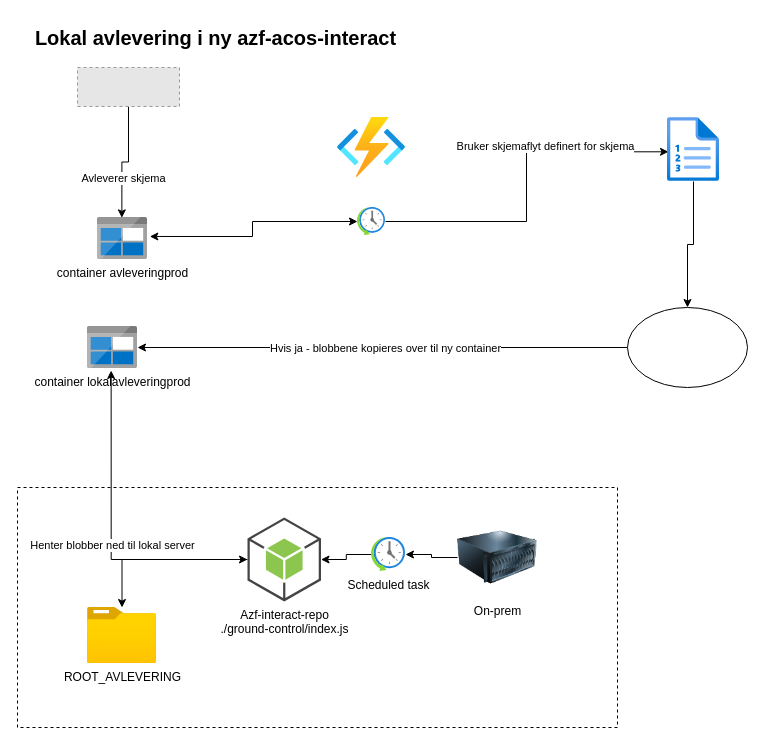
Some shapes in this 765 by 745 pixel diagram are drawn without their labels. Grey dashed boxes stand in for pictures. Here are the shapes that lost their labels. From the top down, the box of each, then its label:
(337, 117, 405, 177): AZF-acos-interact
(357, 207, 385, 235): Timer trigger Håndterer innsendte skjema
(626, 306, 748, 388): Er jobben groundControl skrudd på?
